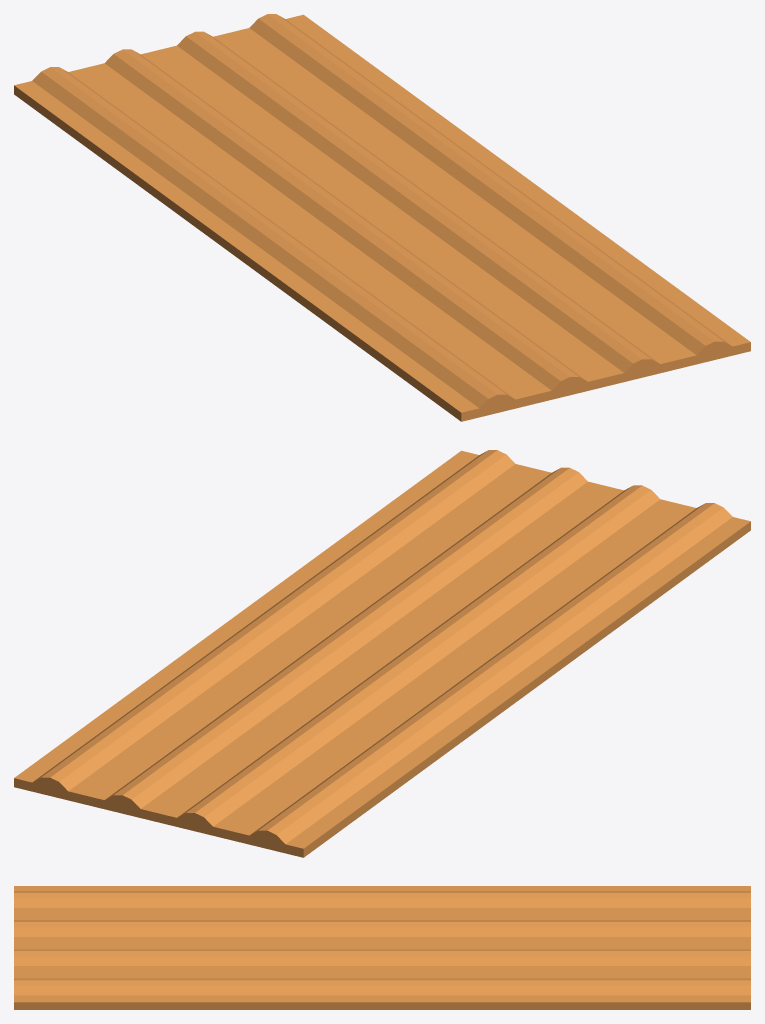
The model's file is CampoTrigo.fbx.
The picture shows the model from 3 angles, top to bottom: view 1: azimuth 30°, elevation 25°; view 2: azimuth 150°, elevation 25°; view 3: azimuth 270°, elevation 25°; orthographic projection. The views are drawn at different scales.
Parts seen in each view (by area): view 1: Cube.002; view 2: Cube.002; view 3: Cube.002.
Part boxes in pixels (x1,y1,x2,y2): Cube.002: (14, 14, 750, 421); Cube.002: (14, 450, 750, 857); Cube.002: (14, 886, 750, 1009).
Size of the model in its own units: 868 by 52.79 by 2322.
